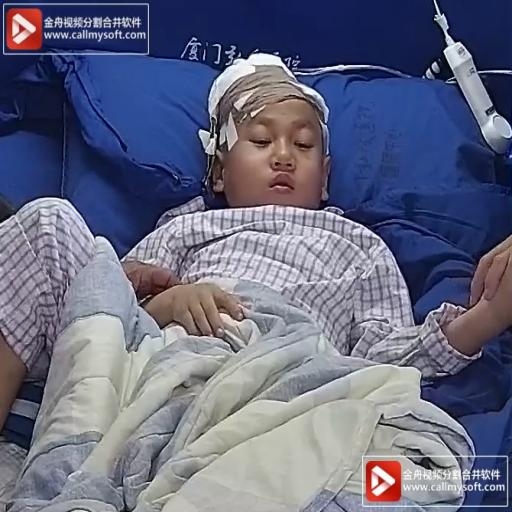Netural: (200, 64, 349, 211)
